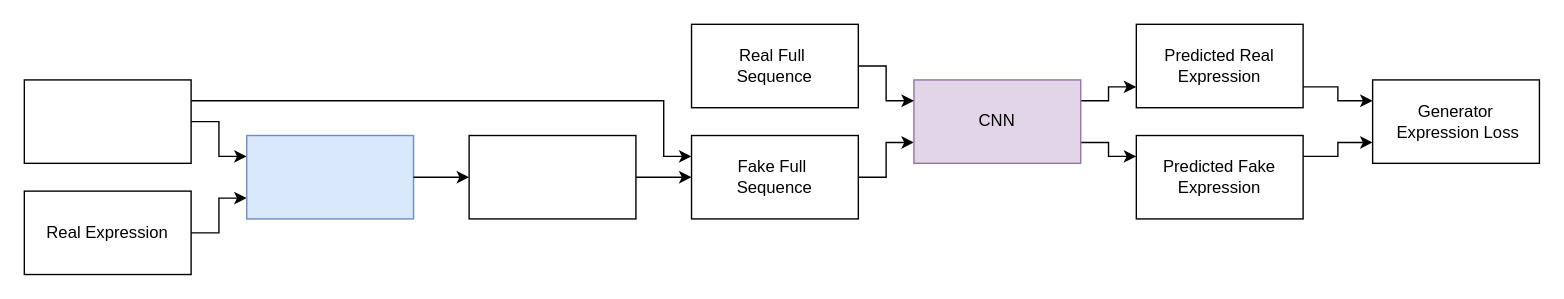
This 1564x299 diagram has some shape labels left out. Each missing label, with the centre of its shape:
Fake Missing Sequence: [552,176]
Generator: [329,176]
Masked Sequence: [107,121]
